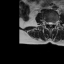CCS_normal: (49, 19, 51, 29)
LFS_normal: (53, 19, 56, 26)
LLS_normal: (51, 19, 53, 26)
RFS_normal: (45, 19, 47, 26)
RLS_normal: (47, 19, 49, 26)
